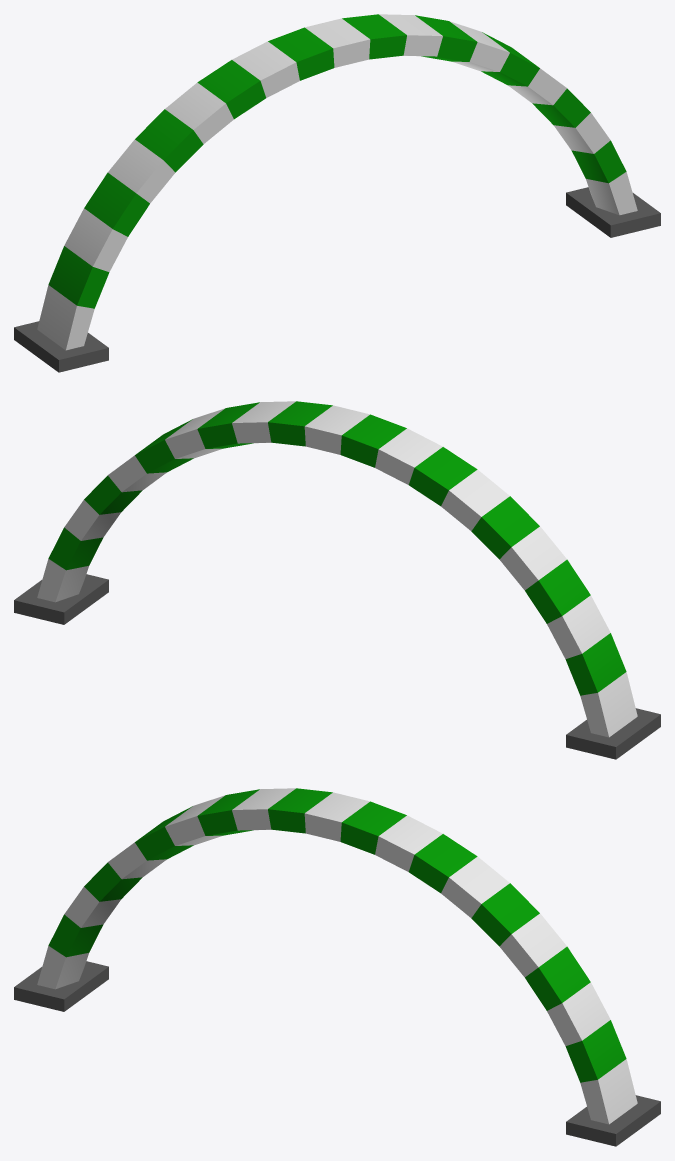
Rendered from Arch_01_free.fbx.
3 views of the same model, one above another, from view 1: azimuth 30°, elevation 25°; view 2: azimuth 150°, elevation 25°; view 3: azimuth 330°, elevation 25° (orthographic).
Parts seen in each view (by area): view 1: Arch_01_free; view 2: Arch_01_free; view 3: Arch_01_free.
Boxes of the visible parts, bbox=[...] form: Arch_01_free: bbox=[14, 14, 660, 372]; Arch_01_free: bbox=[14, 401, 660, 759]; Arch_01_free: bbox=[14, 788, 660, 1146].
Size of the model in its own units: 1500 by 594 by 193.
